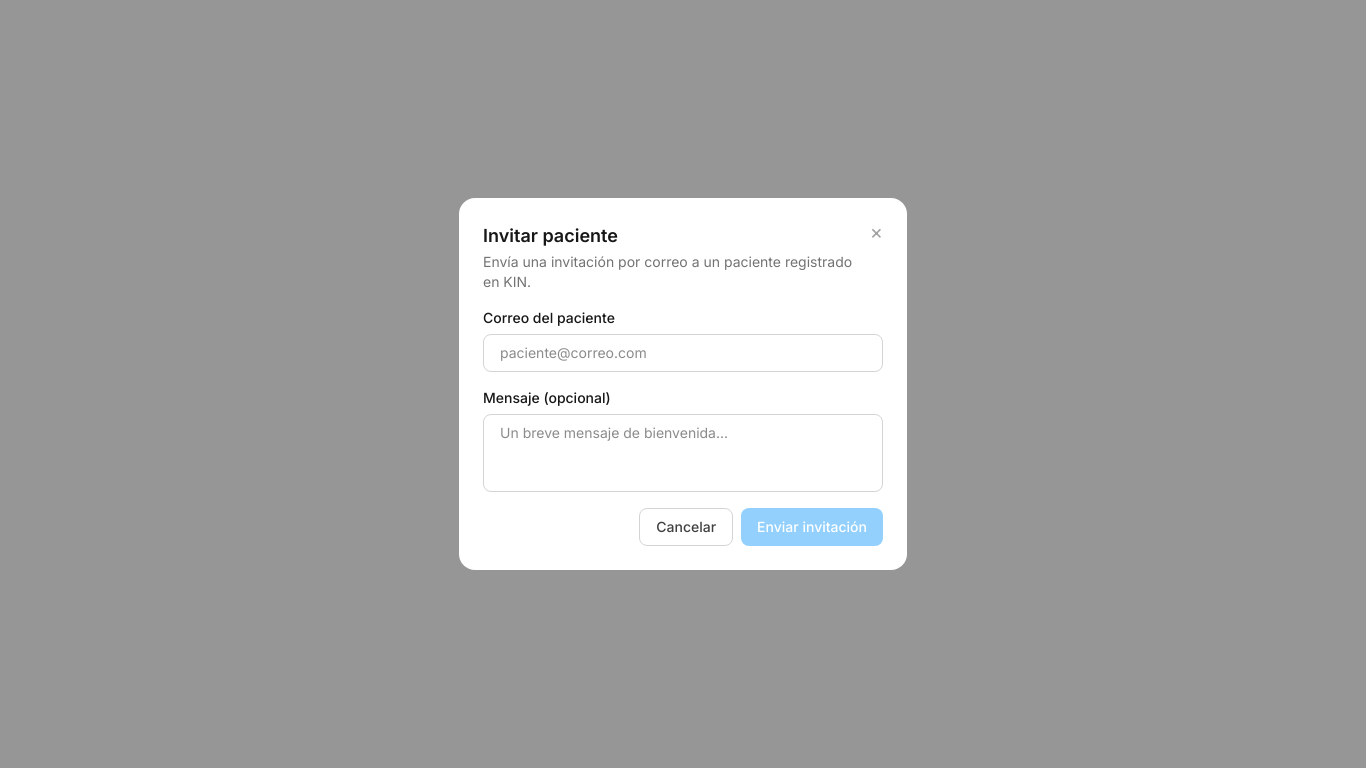
Test case: InvitePatientModal › reenvío: muestra que la invitación fue reenviada
The width and height of the screenshot is (1366, 768).
Type "paciente@kin.com" into the field labelled "Correo del paciente" at {"x": 683, "y": 353}, box left=483, top=334, right=883, bottom=372
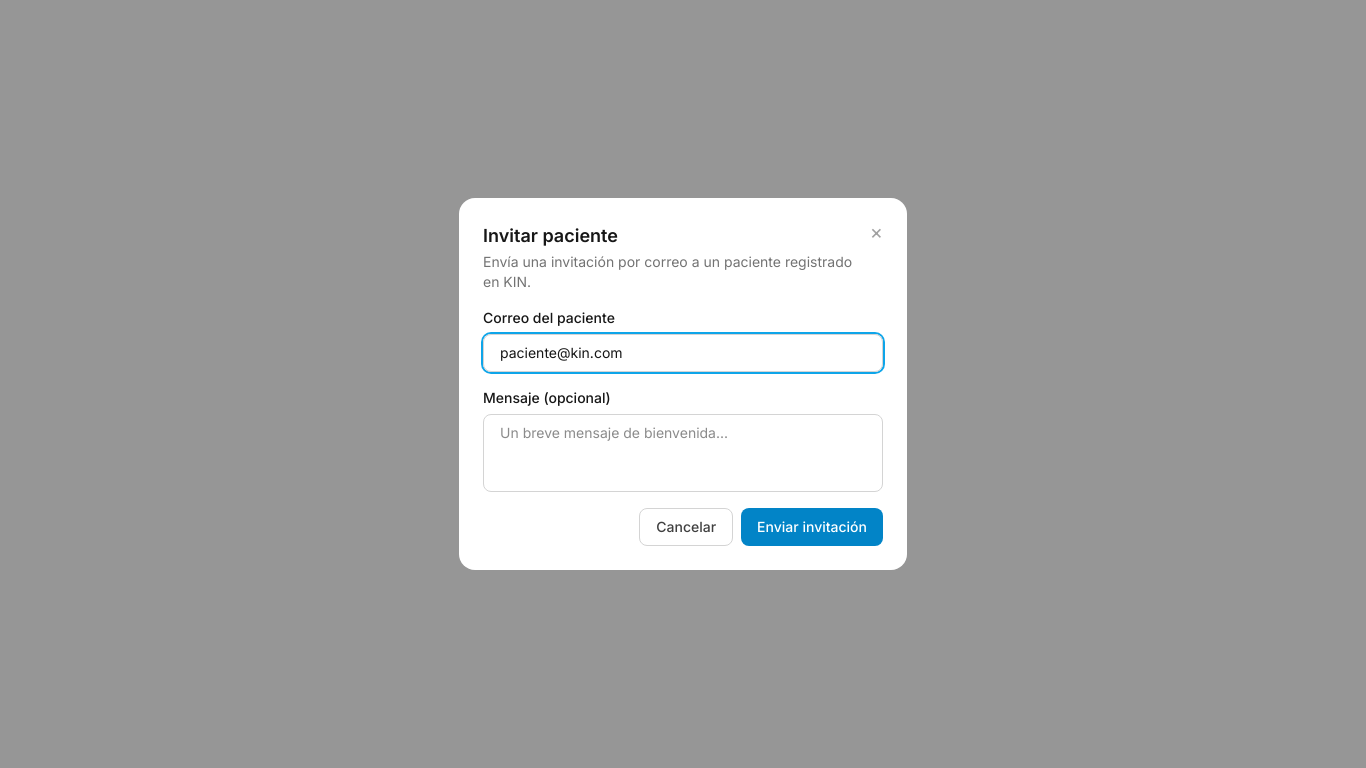
Click the button "Enviar invitación" at {"x": 812, "y": 527}, box left=741, top=508, right=883, bottom=546
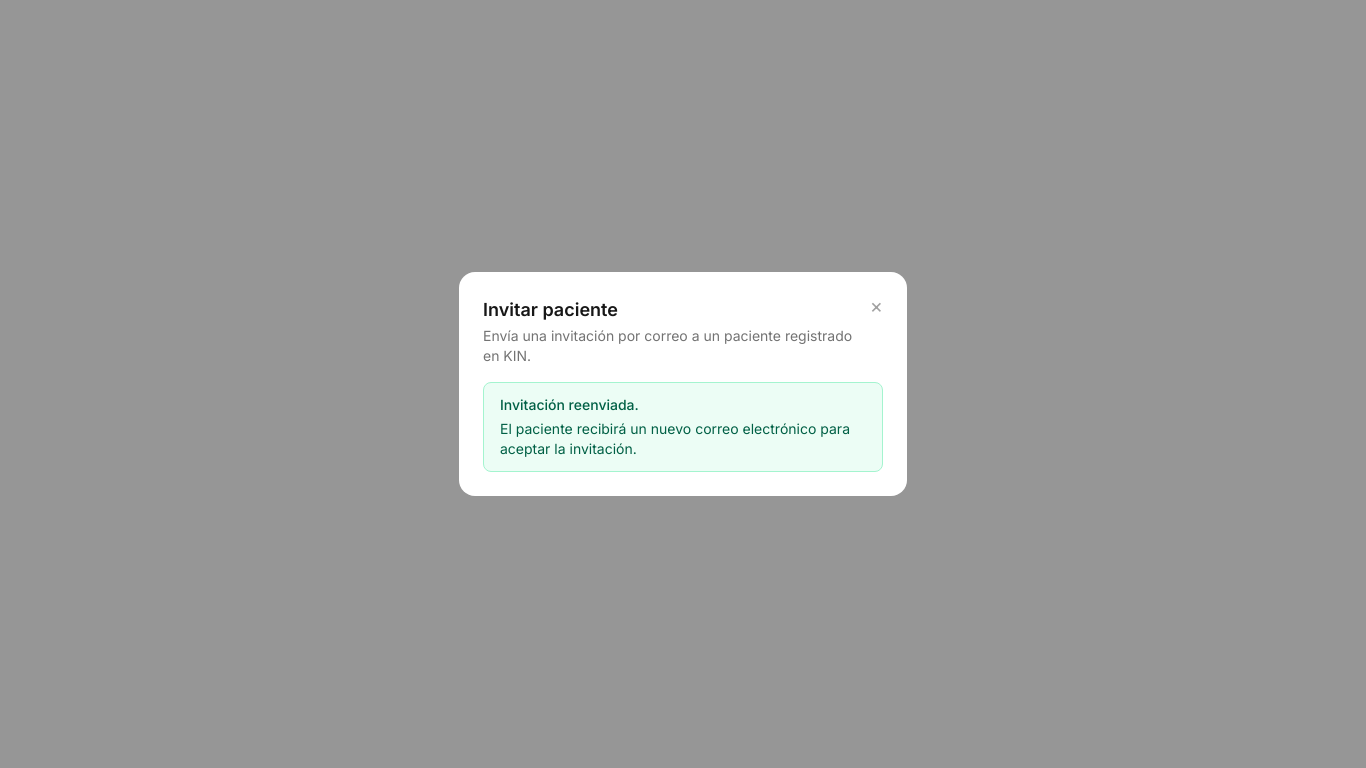
Expected: the text "Invitación reenviada." is shown, left=500, top=396, right=639, bottom=413
Expected: the text "recibirá un nuevo correo electrónico" is shown, left=500, top=420, right=850, bottom=457
